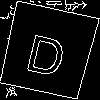D: (23, 25, 71, 78)
